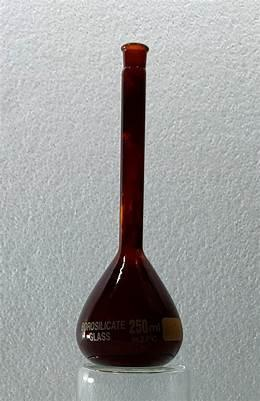Volumetric flask: (71, 30, 193, 370)
